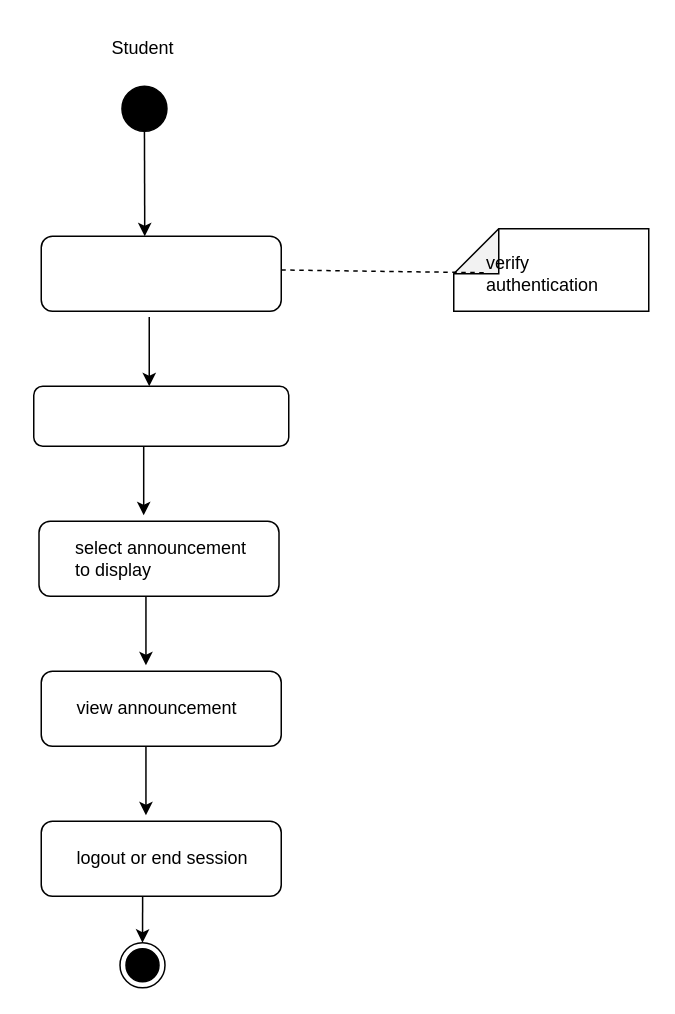
Image size: 675x1014. Some labels were removed from this diagram. The box of each missing label's shape, as (x1, y1, x2, y2) in pixels:
login to the system: (40, 235, 281, 311)
select the specific course: (32, 385, 289, 446)
